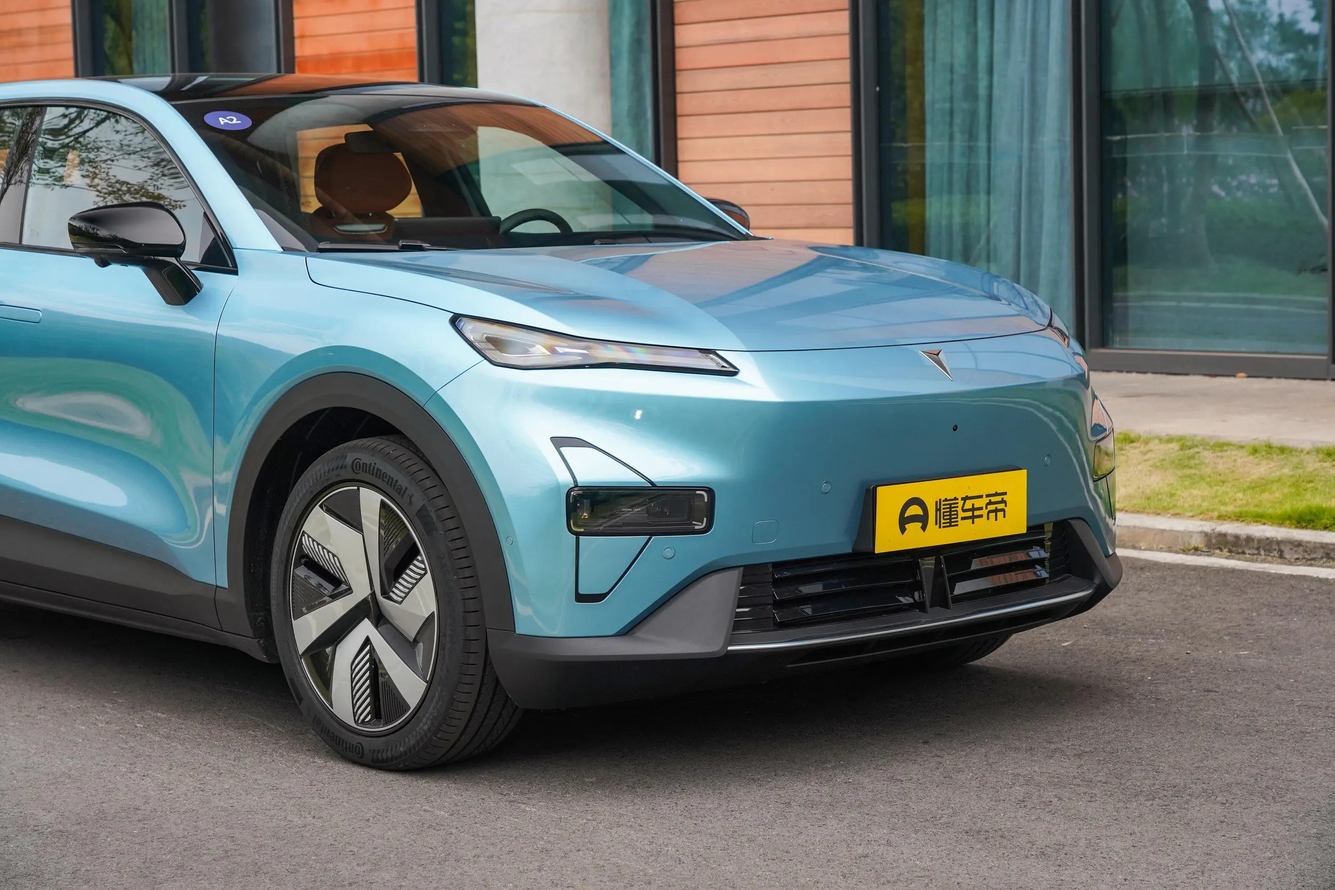Deepal: (919, 349, 952, 380)
